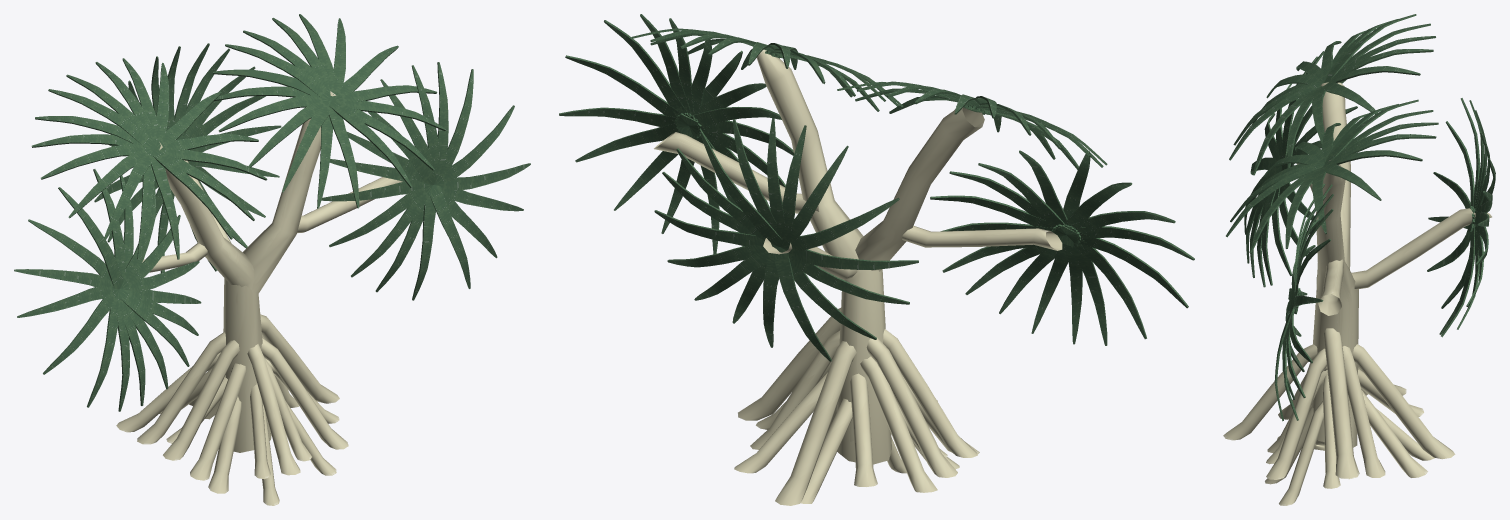
File: Spider.fbx
The picture shows the model from 3 angles, left to right: view 1: azimuth 30°, elevation 25°; view 2: azimuth 150°, elevation 25°; view 3: azimuth 270°, elevation 25°; orthographic projection. The views are drawn at different scales.
Visible parts, largest first — view 1: extrudedSurface3, pPlane22 (×4), pPlane24 (×4), pPlane11 (×4), pPlane10 (×5), pPlane14 (×4), pPlane17 (×4), pPlane13 (×4), pPlane19 (×5), pPlane16 (×4), pPlane12 (×4), pPlane20 (×4) (+21 smaller); view 2: extrudedSurface3, extrudedSurface21, pPlane17 (×3), pPlane16 (×3), extrudedSurface24, pPlane26 (×3), pPlane20 (×3), pPlane18 (×3), pPlane24 (×3), pPlane22 (×3), pPlane25 (×3), pPlane19 (×3) (+18 smaller); view 3: extrudedSurface3, extrudedSurface19, extrudedSurface27, extrudedSurface24, pPlane22 (×4), extrudedSurface9, pPlane15 (×4), extrudedSurface10, extrudedSurface21, pPlane24 (×3), pPlane26 (×3), extrudedSurface15 (+19 smaller).
Boxes of the visible parts, bbox=[...] form: extrudedSurface3: bbox=[223, 91, 336, 452]; pPlane22 (×4): bbox=[58, 100, 470, 289]; pPlane24 (×4): bbox=[48, 44, 436, 366]; pPlane11 (×4): bbox=[40, 95, 432, 292]; pPlane10 (×5): bbox=[35, 66, 427, 335]; pPlane14 (×4): bbox=[93, 108, 435, 300]; pPlane17 (×4): bbox=[43, 45, 514, 374]; pPlane13 (×4): bbox=[103, 101, 432, 287]; pPlane19 (×5): bbox=[66, 30, 433, 389]; pPlane16 (×4): bbox=[17, 85, 530, 317]; pPlane12 (×4): bbox=[68, 100, 432, 288]; pPlane20 (×4): bbox=[14, 100, 523, 288]; extrudedSurface3: bbox=[756, 49, 891, 464]; extrudedSurface21: bbox=[849, 107, 984, 441]; pPlane17 (×3): bbox=[565, 55, 1188, 308]; pPlane16 (×3): bbox=[559, 107, 1194, 269]; extrudedSurface24: bbox=[775, 341, 856, 505]; pPlane26 (×3): bbox=[604, 20, 1146, 339]; pPlane20 (×3): bbox=[575, 115, 1175, 304]; pPlane18 (×3): bbox=[640, 14, 1107, 345]; pPlane24 (×3): bbox=[676, 50, 1079, 314]; pPlane22 (×3): bbox=[661, 113, 1090, 361]; pPlane25 (×3): bbox=[669, 18, 1082, 344]; pPlane19 (×3): bbox=[678, 39, 1077, 333]; extrudedSurface3: bbox=[1310, 160, 1358, 450]; extrudedSurface19: bbox=[1323, 328, 1359, 479]; extrudedSurface27: bbox=[1351, 208, 1491, 289]; extrudedSurface24: bbox=[1352, 344, 1455, 459]; pPlane22 (×4): bbox=[1226, 51, 1324, 421]; extrudedSurface9: bbox=[1266, 348, 1326, 479]; pPlane15 (×4): bbox=[1249, 90, 1474, 420]; extrudedSurface10: bbox=[1342, 346, 1385, 477]; extrudedSurface21: bbox=[1316, 82, 1350, 291]; pPlane24 (×3): bbox=[1261, 14, 1418, 285]; pPlane26 (×3): bbox=[1325, 66, 1480, 229]; extrudedSurface15: bbox=[1223, 344, 1317, 440].
Bounding box in the file's own units: 15.36 × 11.12 × 6.85.
